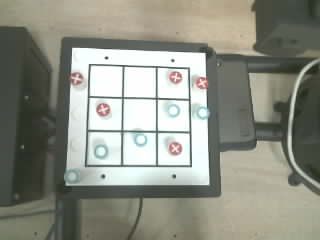blue circle: (64, 169, 79, 183), (94, 144, 107, 159), (134, 133, 147, 146), (196, 106, 209, 119), (167, 104, 179, 117)
board: (65, 48, 209, 185)
cells: (88, 98, 122, 130), (87, 132, 120, 164), (123, 132, 155, 164), (158, 133, 190, 165), (123, 99, 155, 130), (89, 66, 122, 96), (158, 100, 189, 131), (124, 67, 155, 97), (158, 68, 188, 98)
grid: (85, 64, 191, 167)
red cross: (96, 103, 110, 116), (169, 142, 182, 155), (70, 72, 83, 85), (169, 71, 182, 83), (196, 77, 208, 88)
